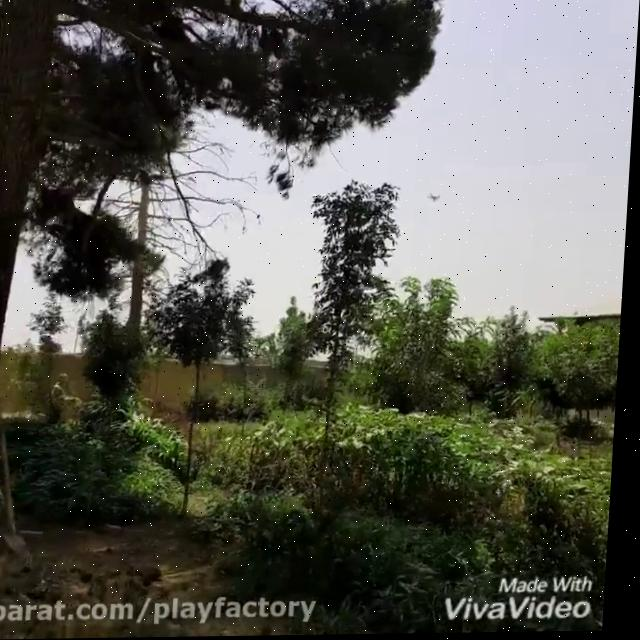drone: (426, 190, 445, 206)
